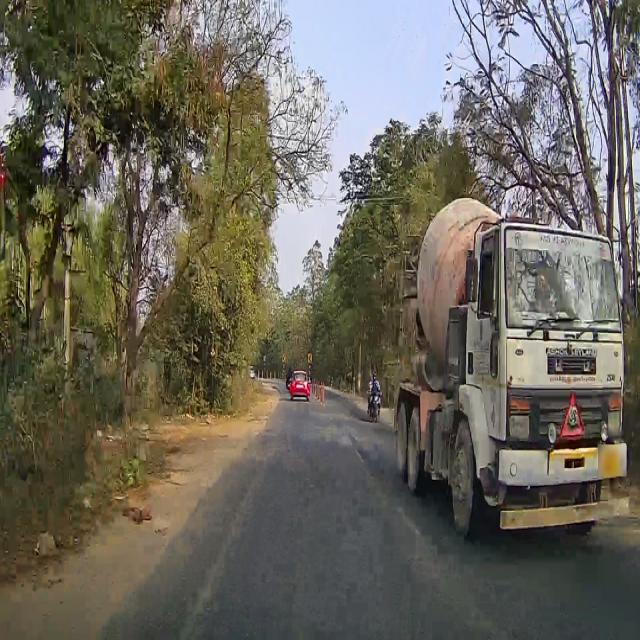truck ahead at: (393, 194, 637, 555)
